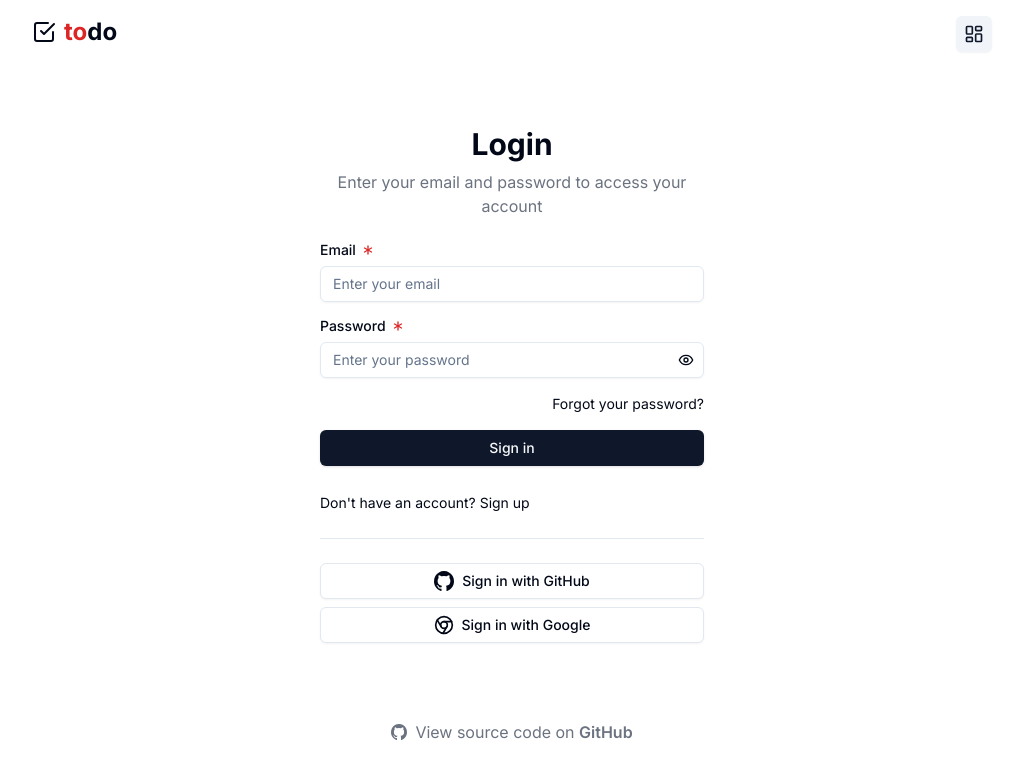
Login › should show password when clicking on the icon
Type "123456" into the password field named "password" at point(512, 360), box [320, 342, 704, 378]
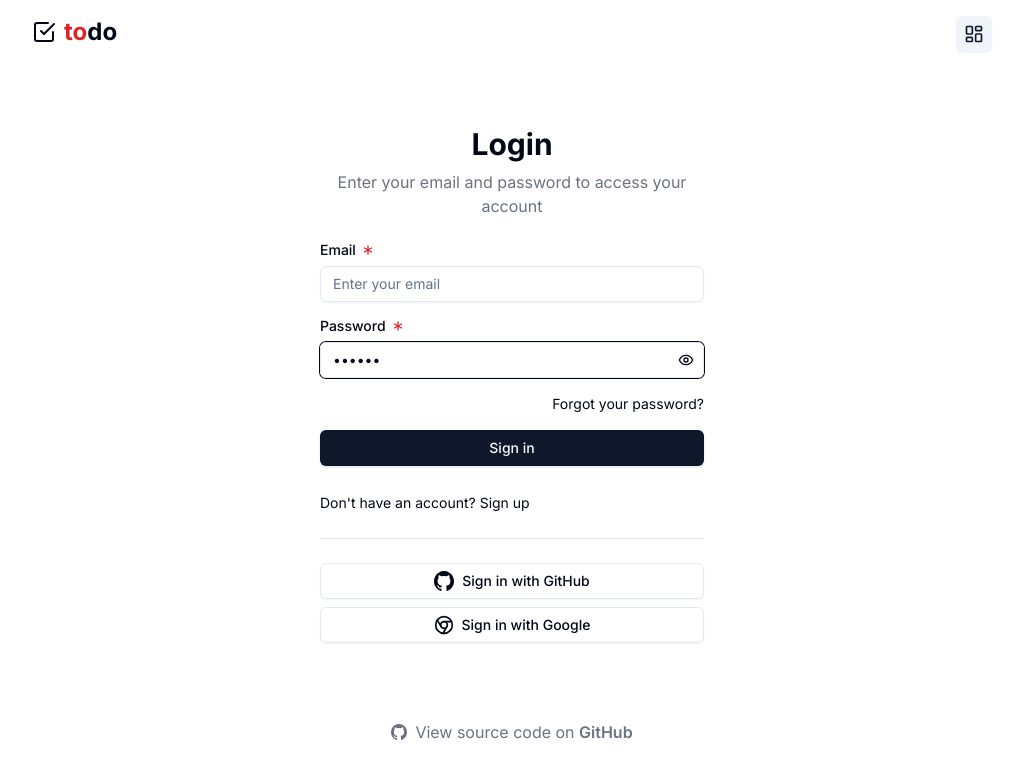
Click the button with test id "toggle-password-visibility" at point(686, 360), box [678, 352, 694, 368]
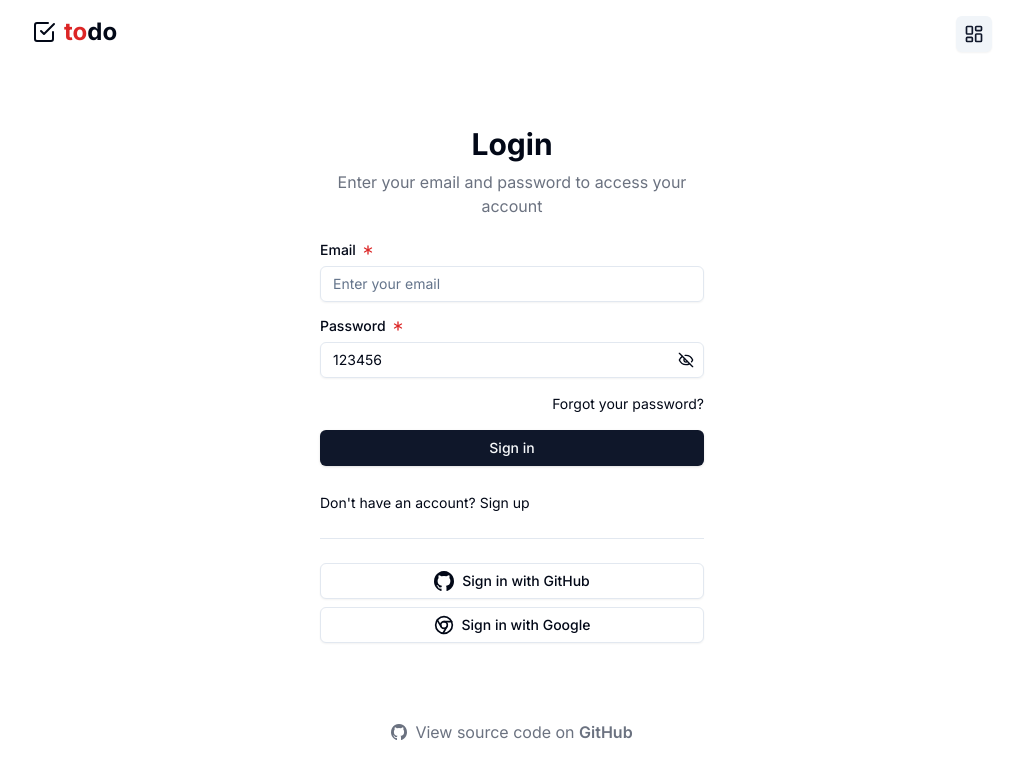
Check: the field named "password" shows its text, box [320, 342, 704, 378]
